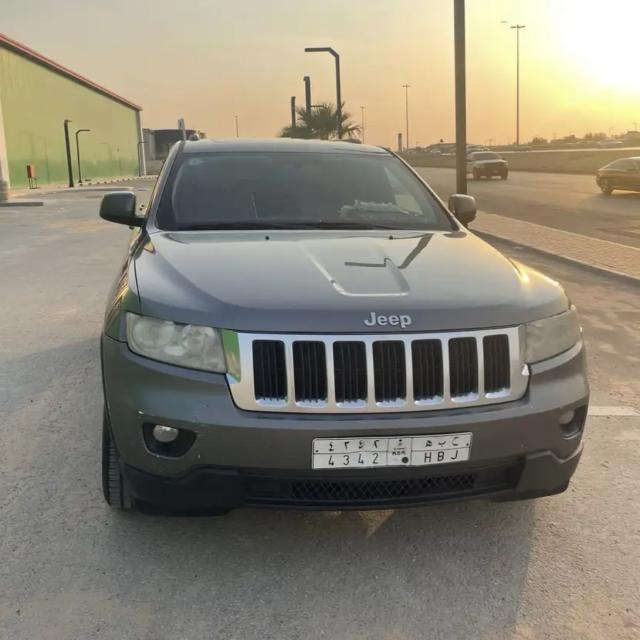license_plate: (312, 436, 474, 469)
